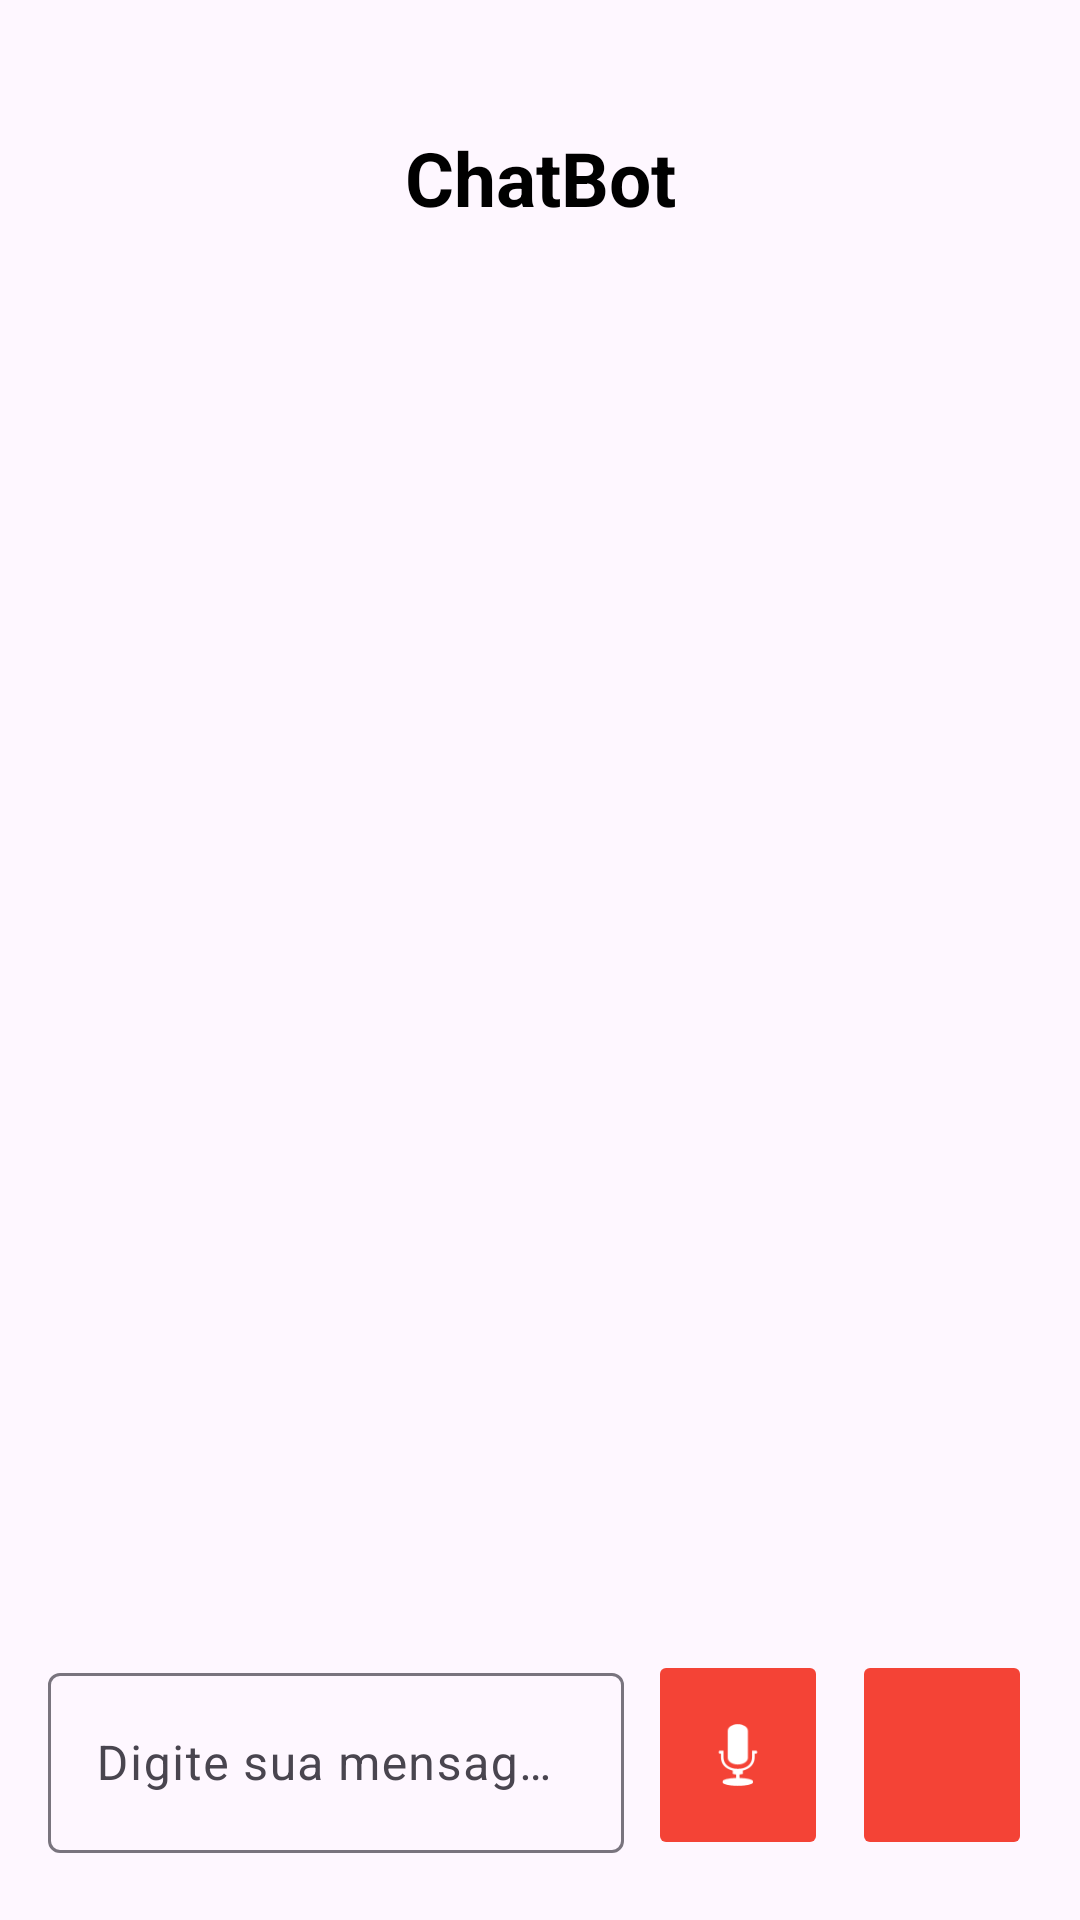

Icon bounding boxes for this 1080x1920 phone screenshot, format detection(x1, y1, x2, y2):
speak now: detection(660, 1668, 816, 1842)
